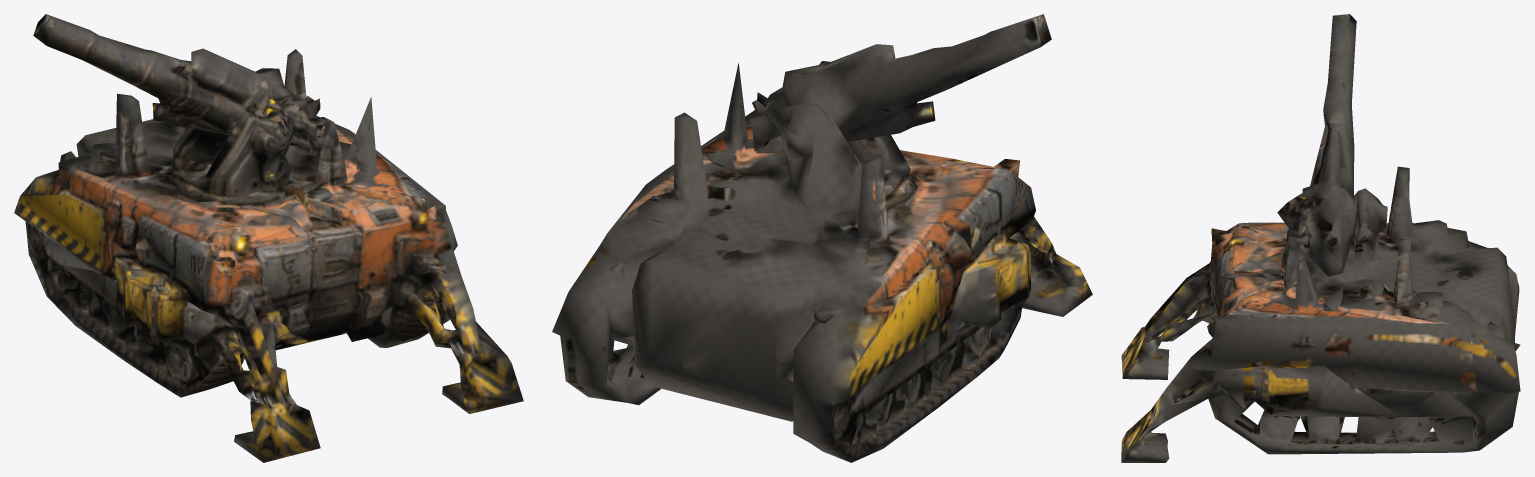
File: thumper_lod2.glb
3 views of the same model, side by side, from view 1: azimuth 30°, elevation 25°; view 2: azimuth 150°, elevation 25°; view 3: azimuth 270°, elevation 25° (orthographic). The views are drawn at different scales.
Visible parts, largest first — view 1: geometry_0; view 2: geometry_0; view 3: geometry_0.
Part boxes in pixels (<box>): geometry_0: <box>14,14,523,462</box>; geometry_0: <box>552,14,1092,462</box>; geometry_0: <box>1121,14,1520,462</box>.
Size of the model in its own units: 1.68 by 1.69 by 1.98.
1 material, 1 textured.
